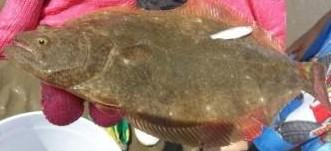fish: (6, 0, 330, 150)
